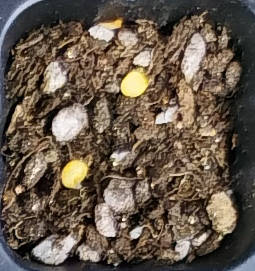chilli seed: (59, 159, 88, 189), (120, 70, 148, 98)
